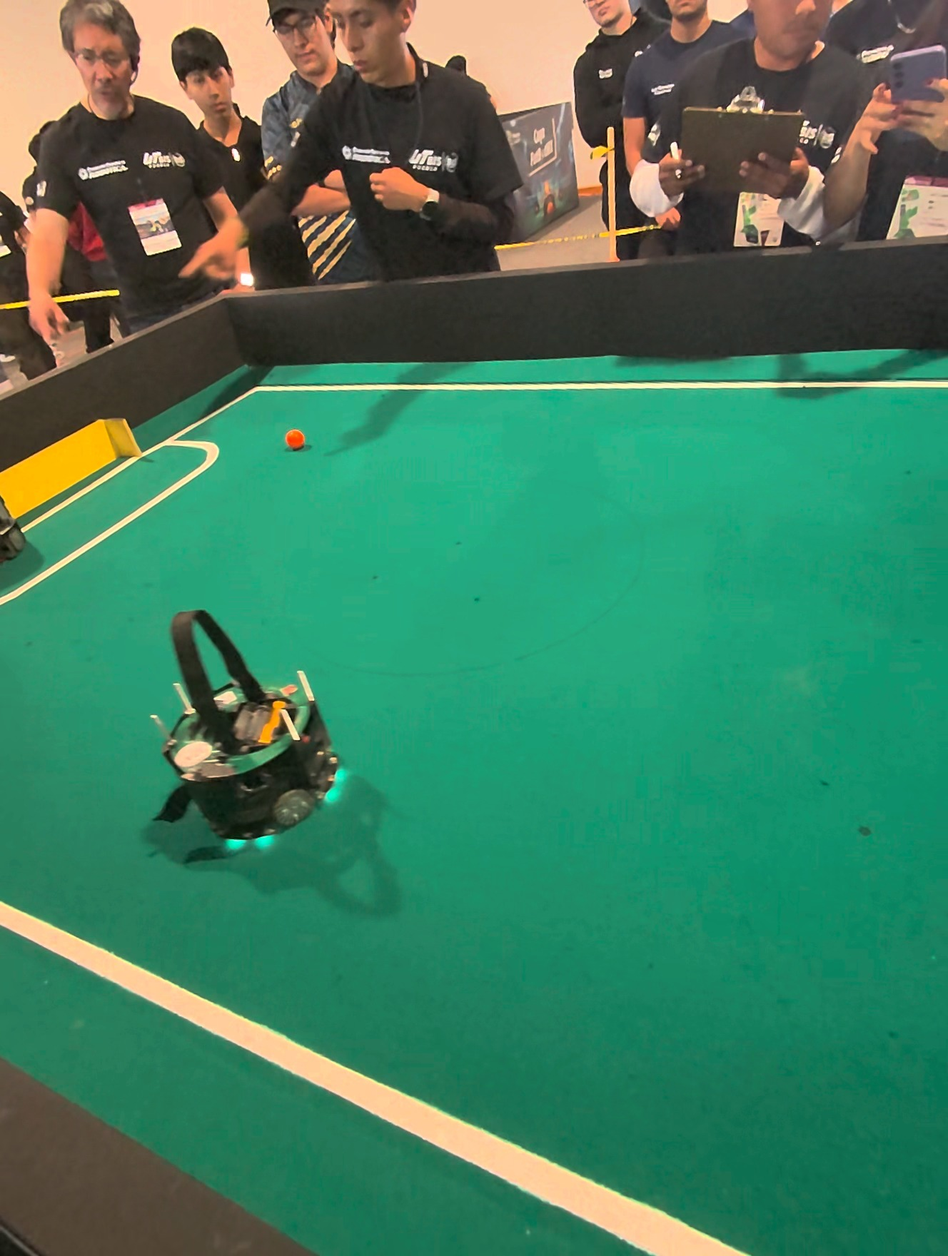Robot: (142, 574, 359, 876)
pelota: (278, 425, 321, 464)
